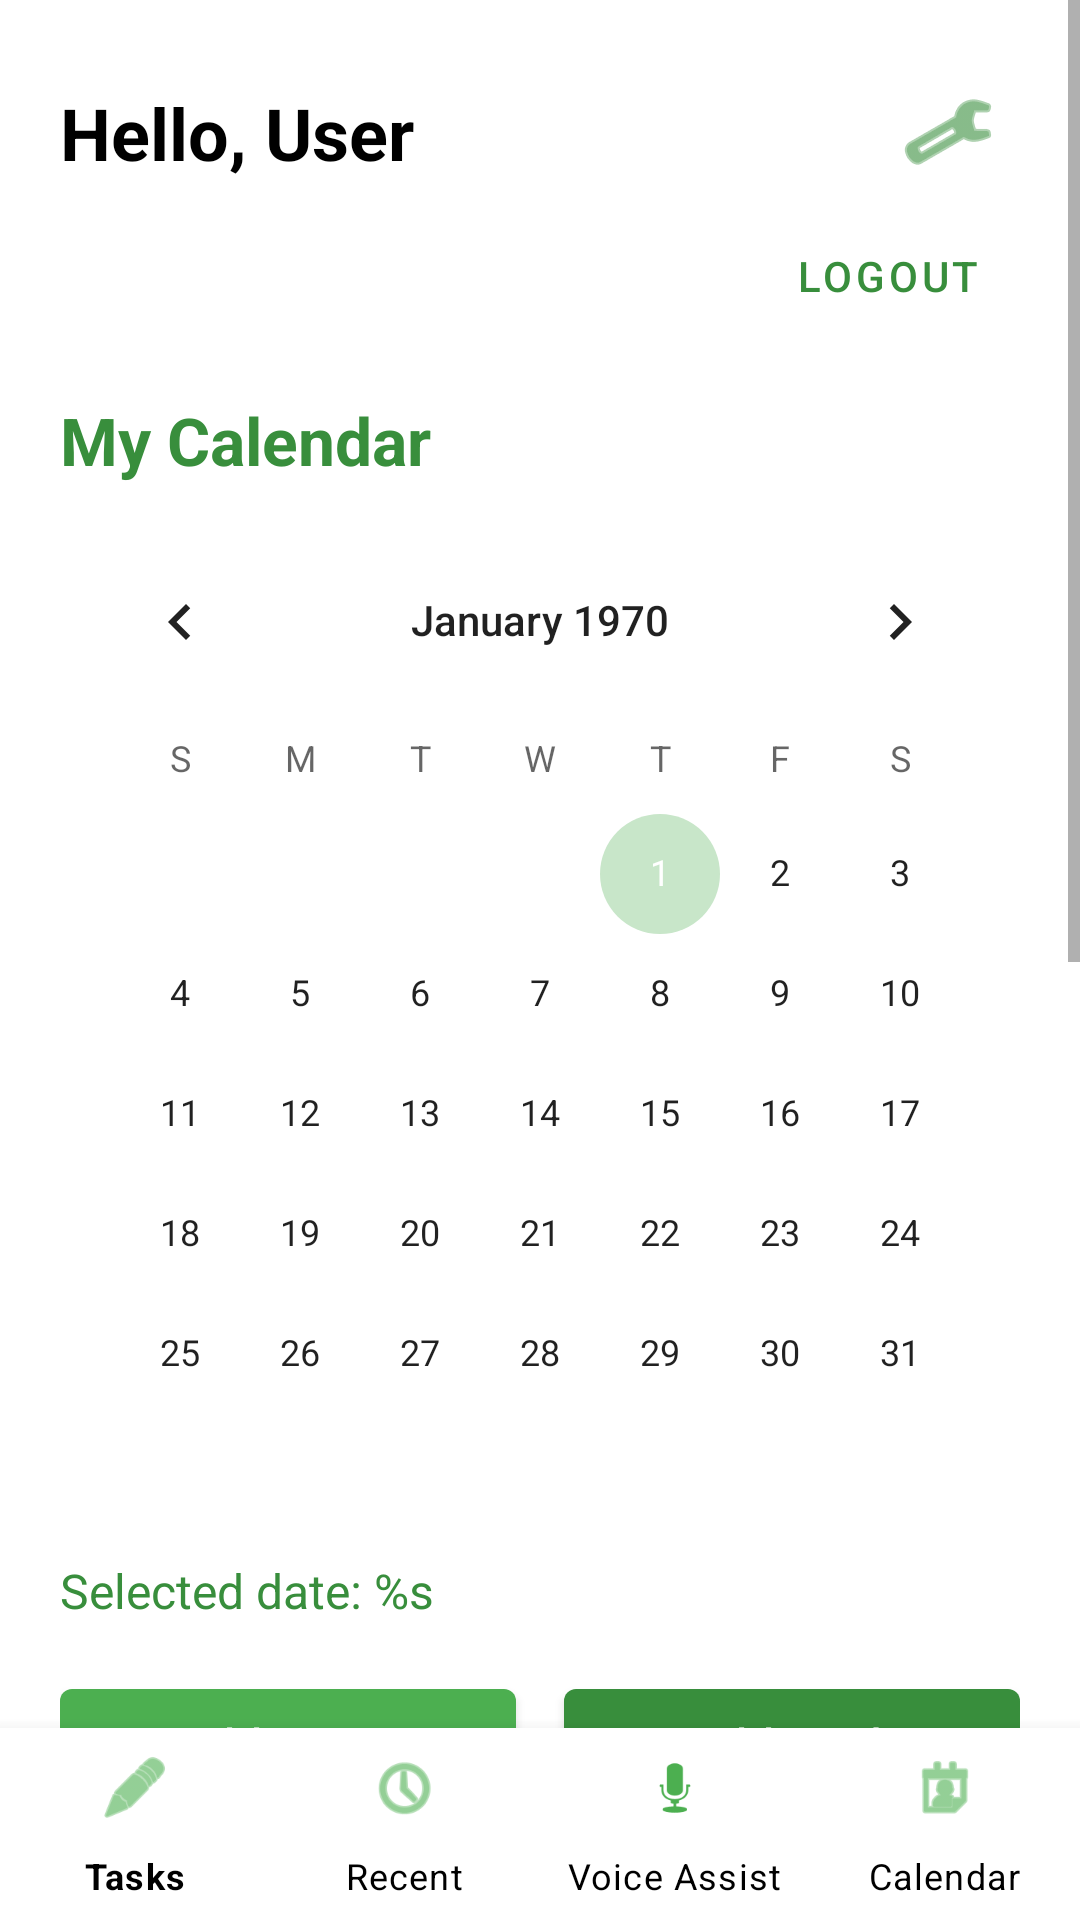

Point at icon controls on the screen. Image size 1080*1920, points as point (x, y).
Theme Settings: point (948, 132)
